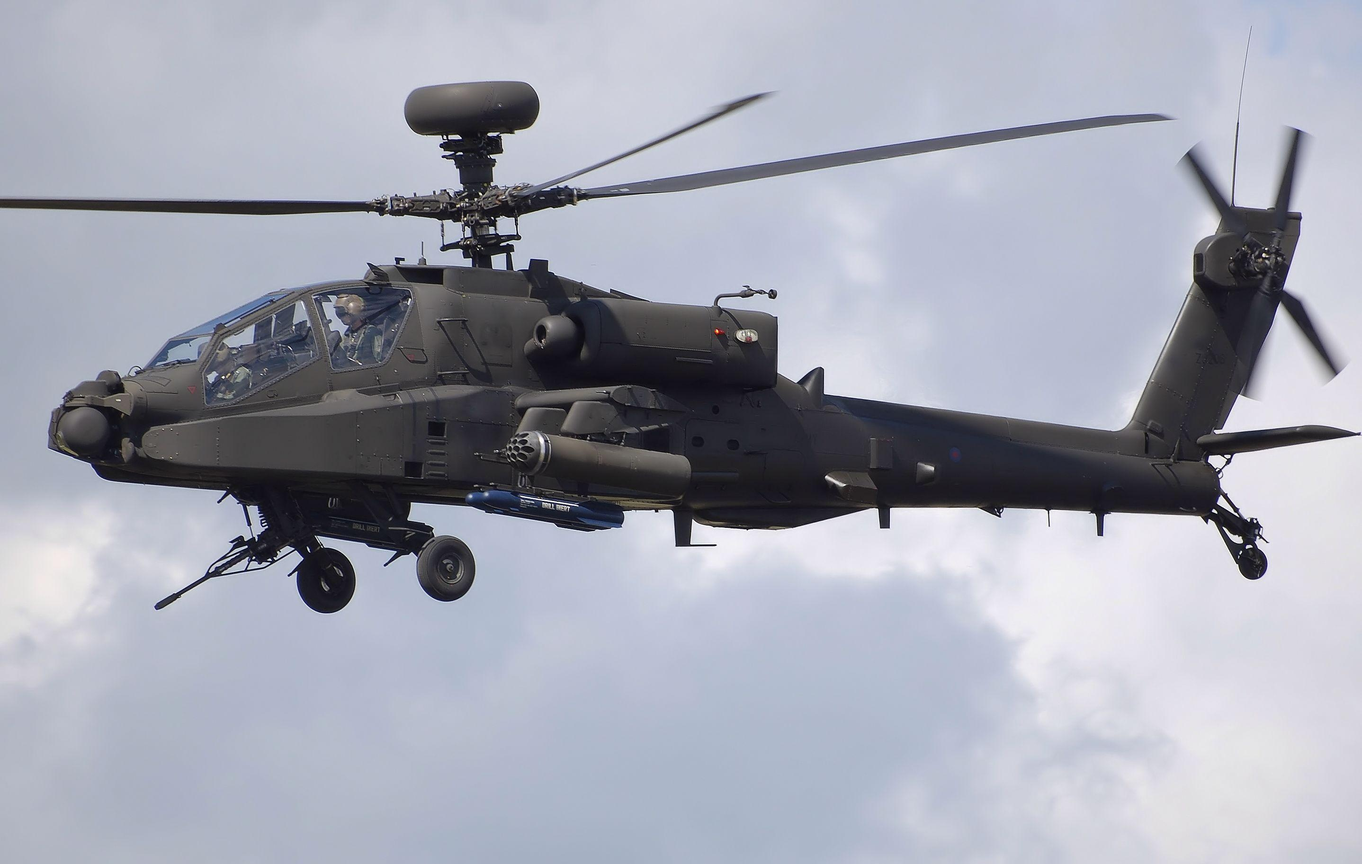aircraft: (24, 253, 1350, 619)
